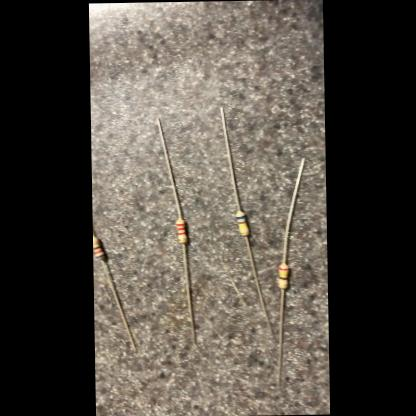resistor: (92, 235, 105, 260), (174, 216, 186, 243), (276, 260, 288, 286), (235, 210, 248, 233)
wire: (98, 258, 134, 350), (243, 234, 272, 332), (279, 157, 305, 260), (154, 116, 180, 216), (218, 106, 240, 209), (180, 244, 194, 342), (274, 288, 286, 386)
